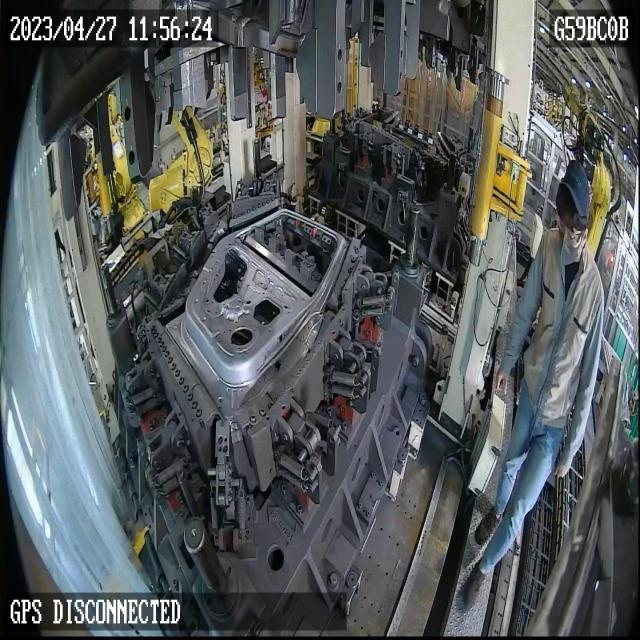Person: (455, 159, 605, 613)
